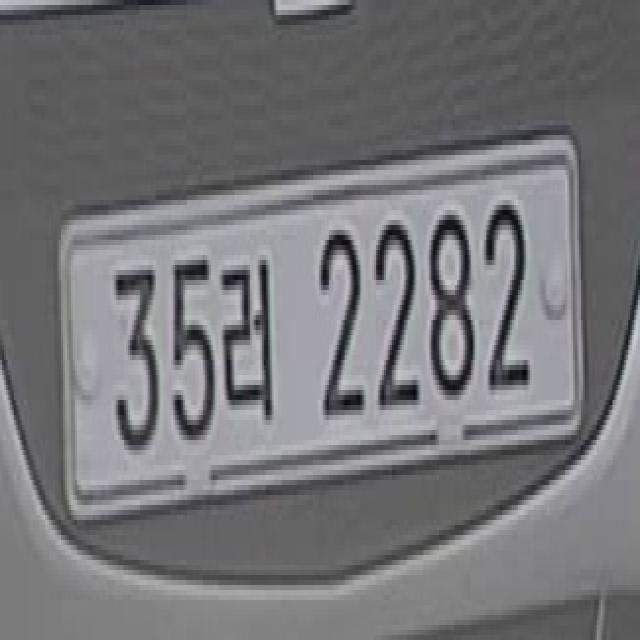2: (476, 195, 532, 400), (315, 225, 368, 420), (374, 205, 420, 415)
3: (114, 260, 162, 460)
5: (169, 250, 217, 435)
8: (426, 205, 474, 405)
leo: (220, 255, 276, 425)
license_plate: (55, 145, 585, 515)
